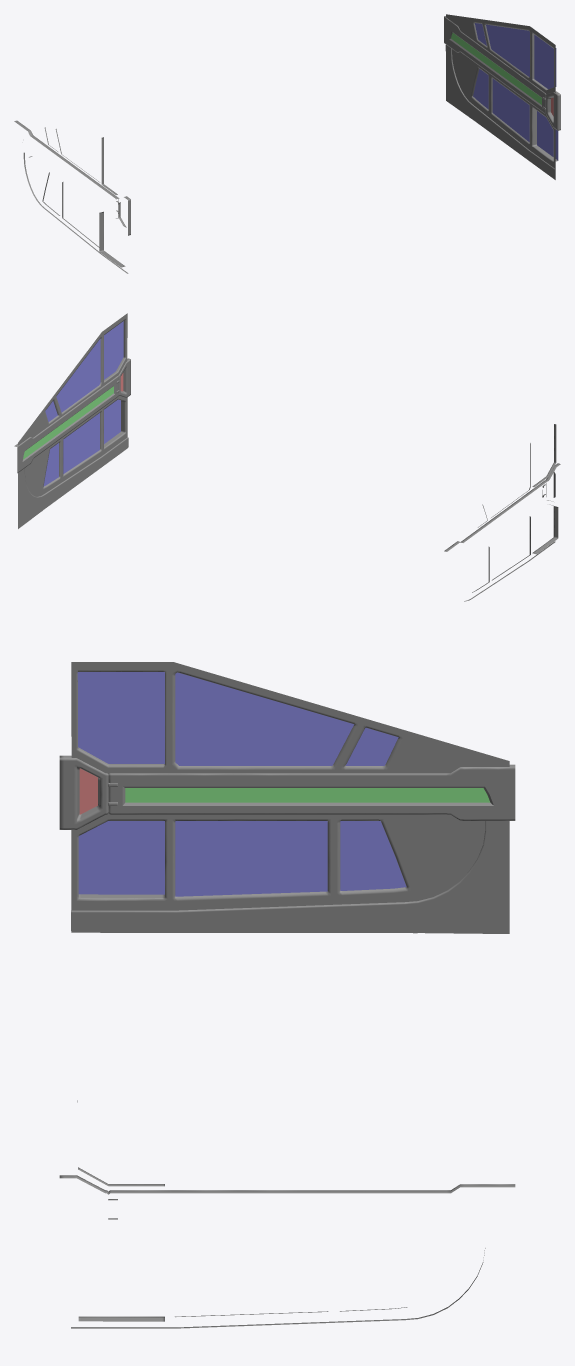
File: CS_FieldGoalInner_03.gltf
3 views of the same model, one above another, from view 1: azimuth 30°, elevation 25°; view 2: azimuth 150°, elevation 25°; view 3: azimuth 270°, elevation 25° (orthographic). The views are drawn at different scales.
Parts seen in each view (by area): view 1: CS_FieldGoalInner_03; view 2: CS_FieldGoalInner_03; view 3: CS_FieldGoalInner_03.
Part boxes in pixels (<box>): CS_FieldGoalInner_03: <box>14,14,560,273</box>; CS_FieldGoalInner_03: <box>14,313,560,601</box>; CS_FieldGoalInner_03: <box>59,662,515,1328</box>.
Bounding box in the file's own units: 18.38 × 5.46 × 8.29.
